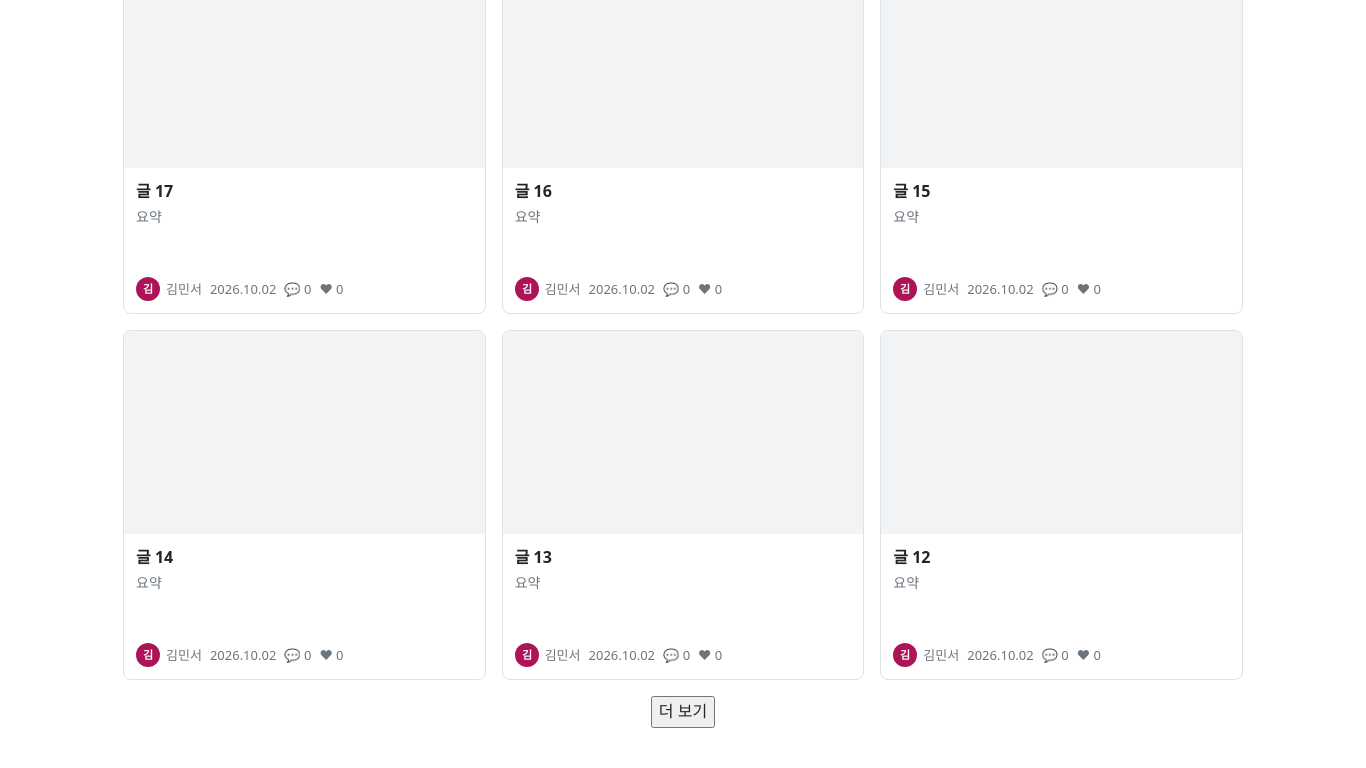
Scenario: HomePage › 마지막 응답의 nextCursor가 null이면 버튼 대신 안내 문구
(page scrolled)
Click the button "더 보기" at [683, 712], box [651,696,715,728]
(page scrolled)
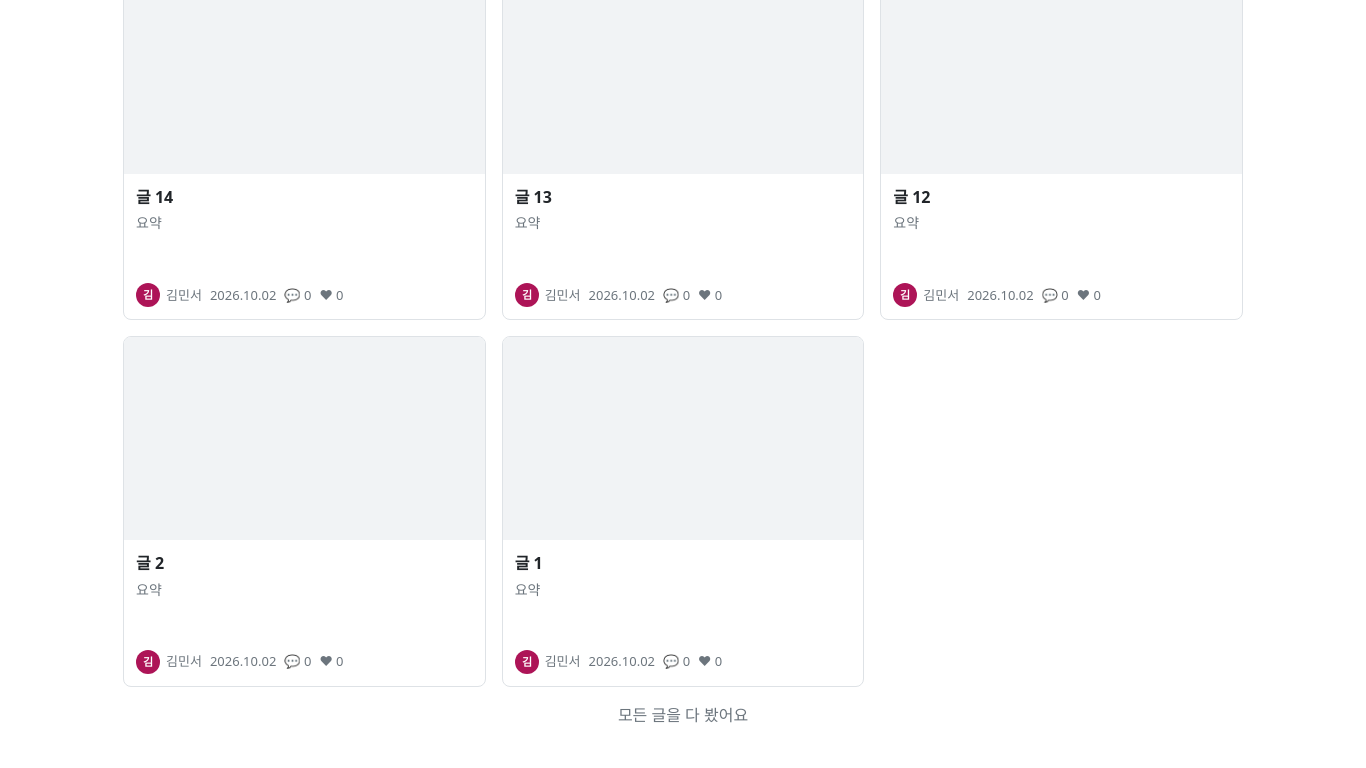
Expected: the text "모든 글을 다 봤어요" is shown, [618,704,748,726]
Expected: the button "더 보기" is gone
